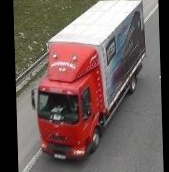truck: (28, 0, 148, 162)
